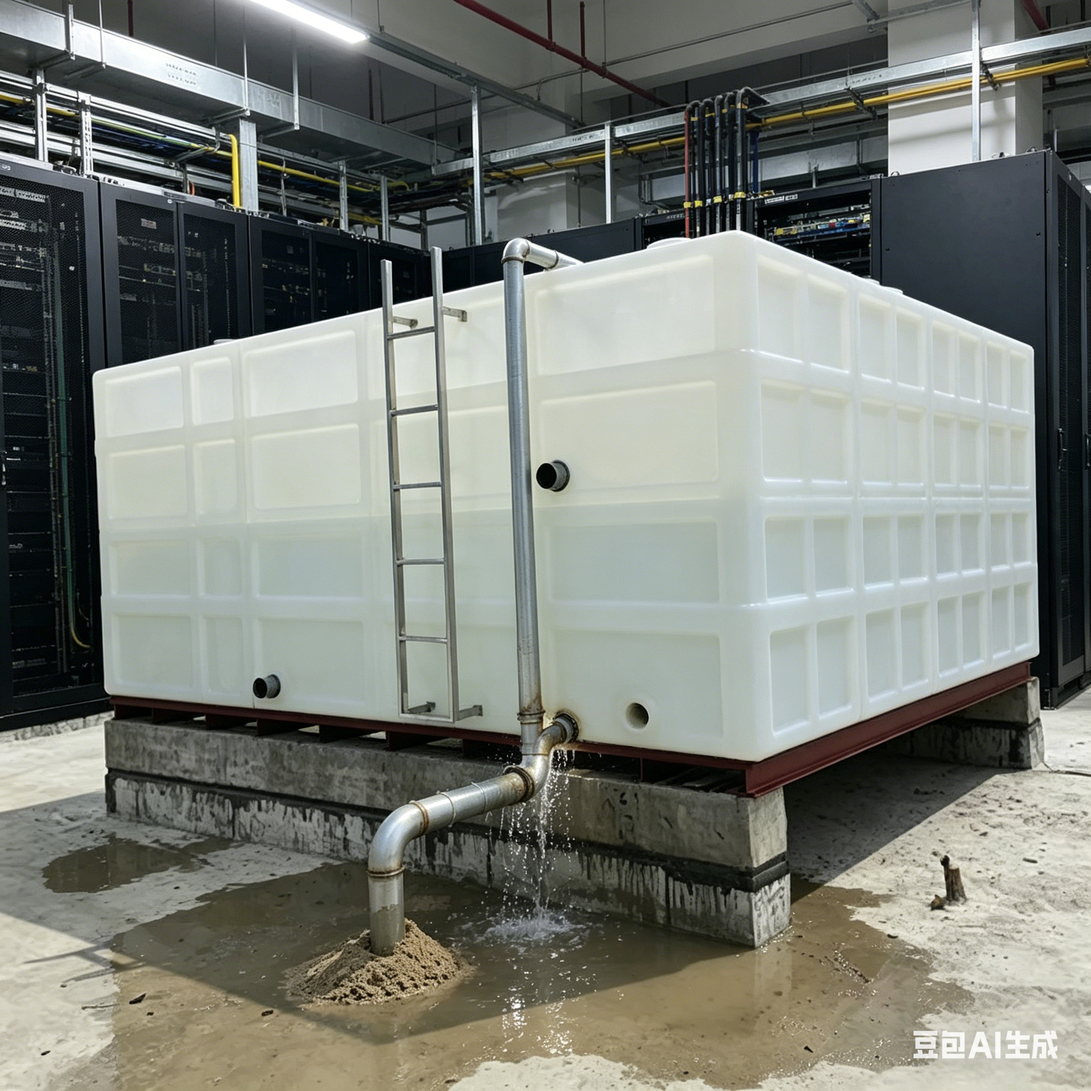Leakage: (658, 884, 957, 1073), (108, 937, 493, 1077), (499, 686, 632, 1059), (203, 880, 499, 933), (50, 820, 176, 888)
